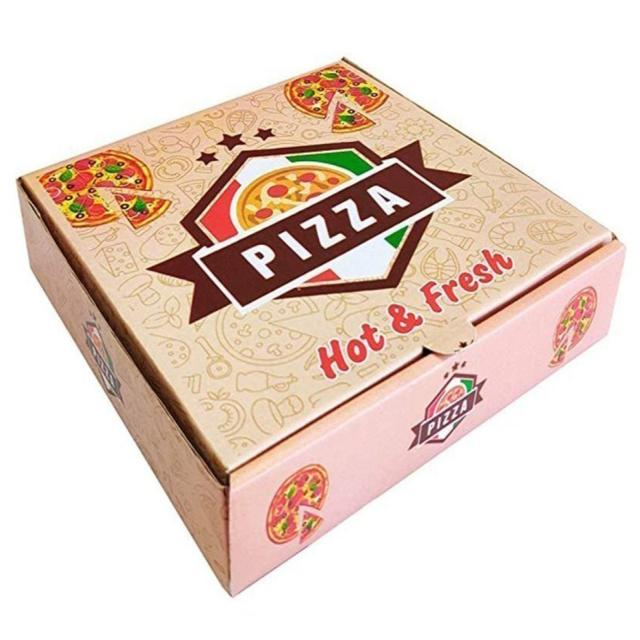cardboard_box: (10, 29, 634, 630)
